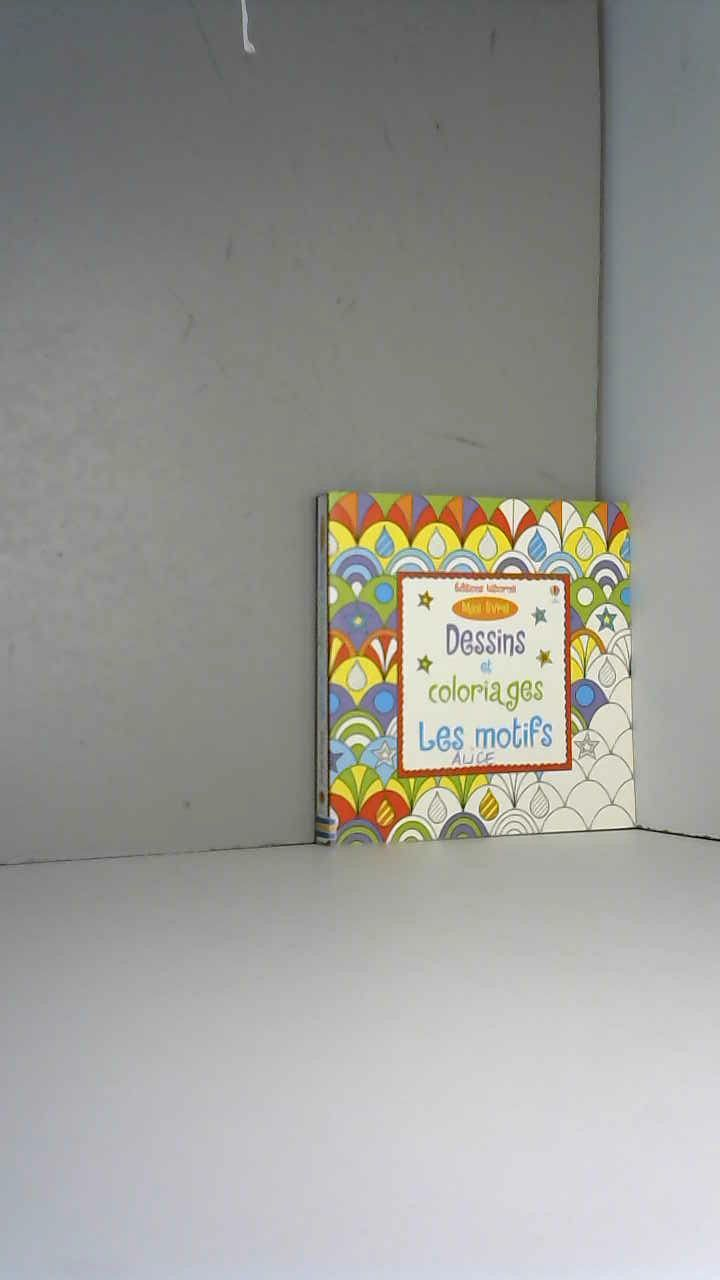book: (295, 471, 656, 862)
